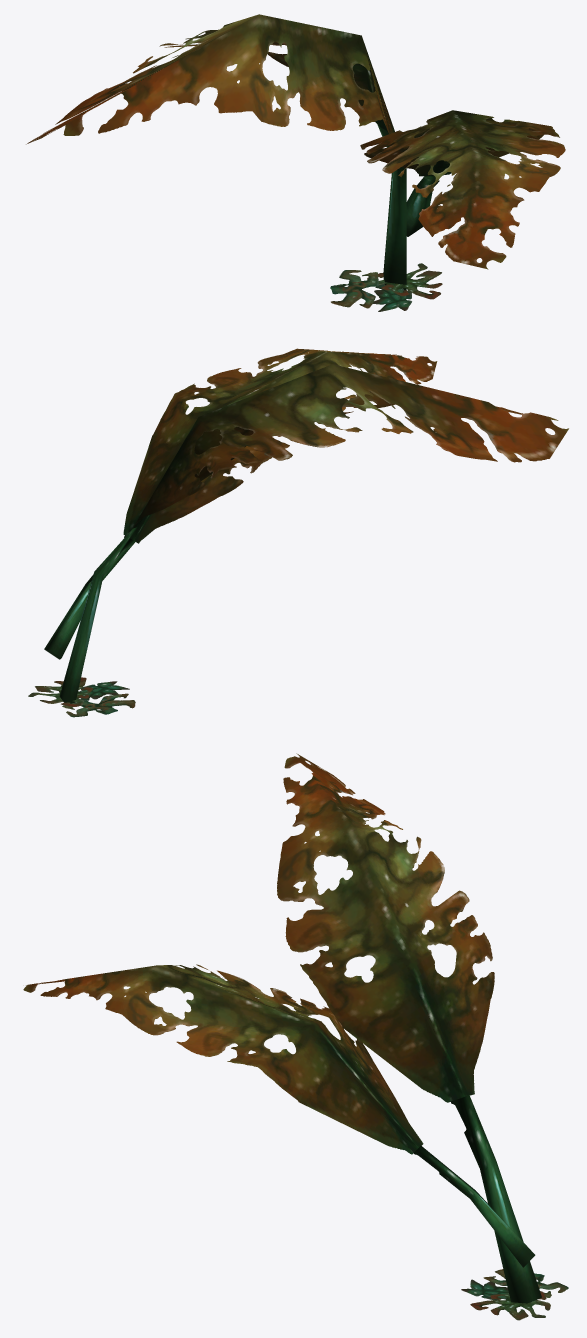
The model's file is stemple_broadleaf_concave_01.fbx.
3 views of the same model, one above another, from view 1: azimuth 30°, elevation 25°; view 2: azimuth 150°, elevation 25°; view 3: azimuth 270°, elevation 25° (orthographic). The views are drawn at different scales.
Visible parts, largest first — view 1: sunken_tileset/sunken_plants01_mat; view 2: sunken_tileset/sunken_plants01_mat; view 3: sunken_tileset/sunken_plants01_mat.
Part boxes in pixels (x1=…): sunken_tileset/sunken_plants01_mat: x1=26, y1=14, x2=565, y2=311; sunken_tileset/sunken_plants01_mat: x1=28, y1=348, x2=568, y2=717; sunken_tileset/sunken_plants01_mat: x1=23, y1=753, x2=568, y2=1320.
Bounding box in the file's own units: 5.82 × 4.17 × 5.67.
